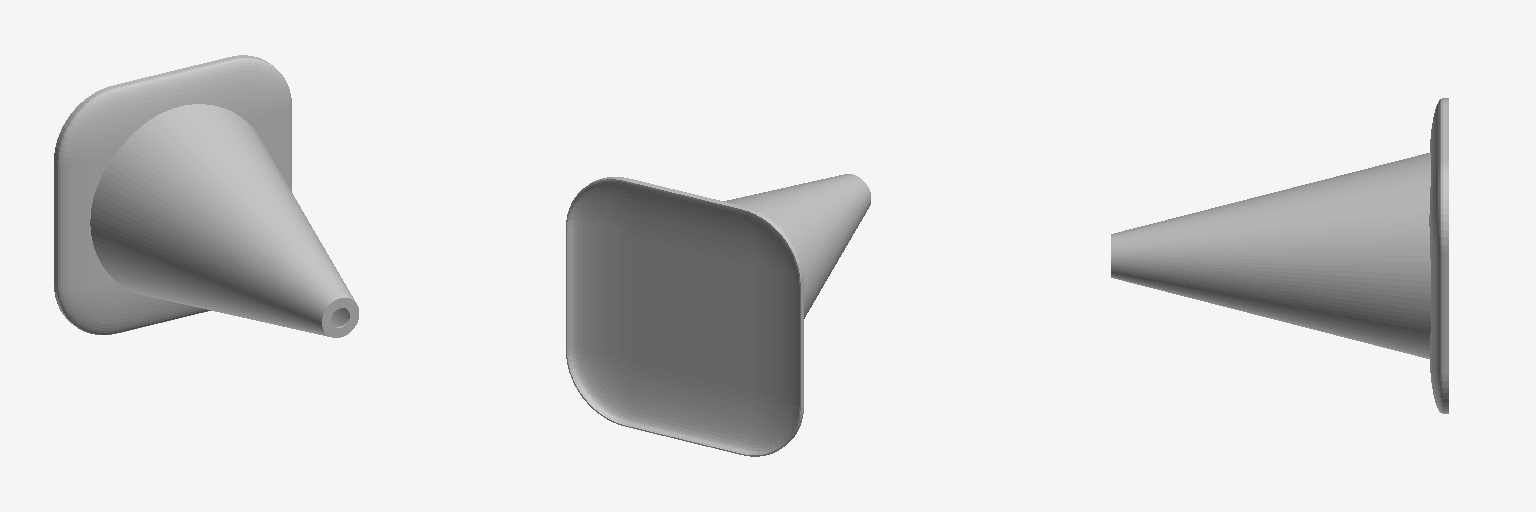
File: tinker_5.obj
The picture shows the model from 3 angles: view 1: azimuth 30°, elevation 25°; view 2: azimuth 150°, elevation 25°; view 3: azimuth 270°, elevation 25°; orthographic projection.
Visible parts, largest first — view 1: obj_0; view 2: obj_0; view 3: obj_0.
Boxes of the visible parts, box(x1,y1,x2,y2) form: obj_0: box(54, 55, 358, 337); obj_0: box(566, 174, 870, 456); obj_0: box(1111, 98, 1448, 413).
Bounding box in the file's own units: 40 × 40 × 50.